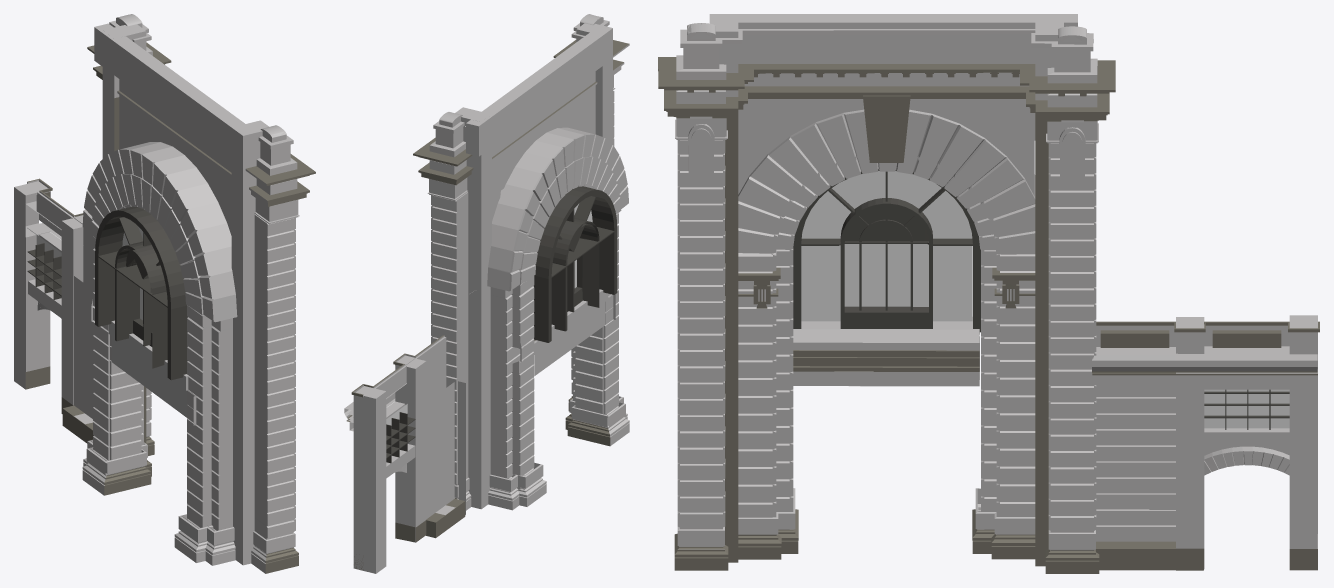
The model's file is Estacion de tren.fbx.
3 renders of one model, left to right at view 1: azimuth 30°, elevation 25°; view 2: azimuth 150°, elevation 25°; view 3: azimuth 270°, elevation 25°, orthographic. The views are drawn at different scales.
Parts seen in each view (by area): view 1: Entre arco, Cube; view 2: Entre arco, Cube; view 3: Entre arco, Cube.
Part boxes in pixels (<box>): Entre arco: <box>14,14,315,573</box>; Cube: <box>62,405,93,443</box>; Entre arco: <box>344,14,629,573</box>; Cube: <box>426,498,465,538</box>; Entre arco: <box>658,14,1319,573</box>; Cube: <box>1096,541,1175,570</box>.
Size of the model in its own units: 574 by 2471 by 2769.
